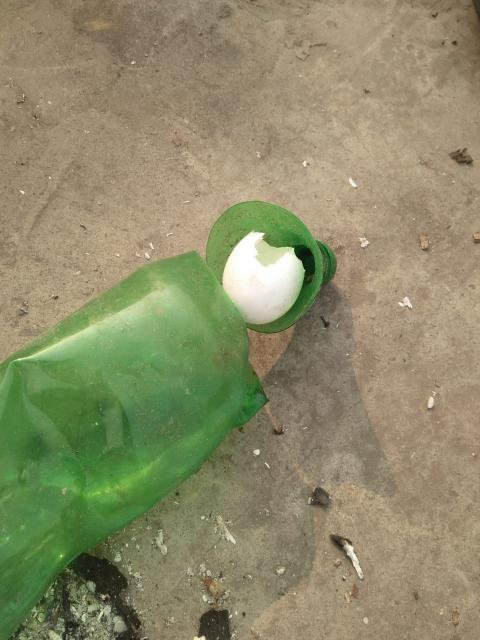Roto: (218, 231, 305, 325)
